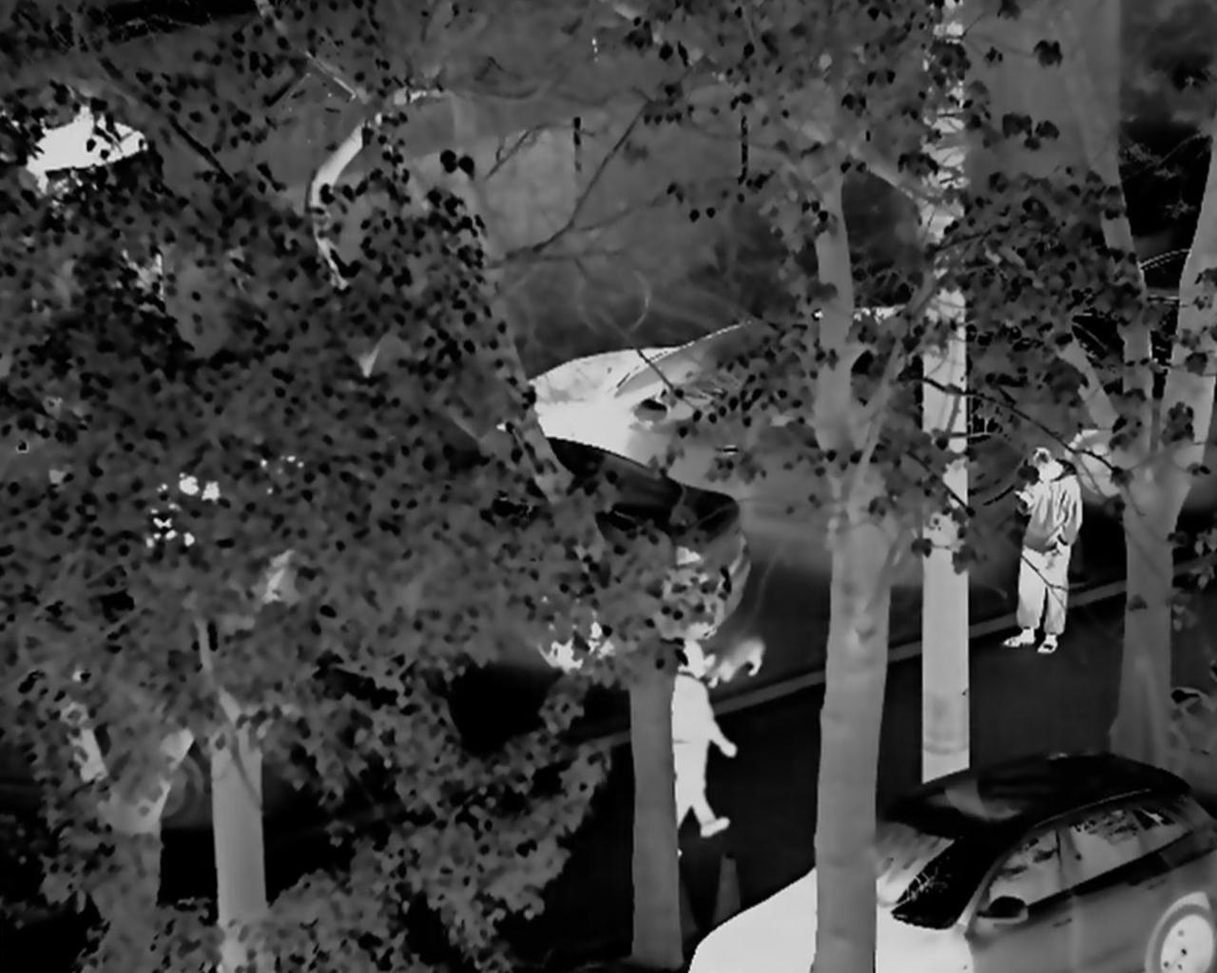person: (653, 641, 744, 849), (1008, 455, 1091, 667)
